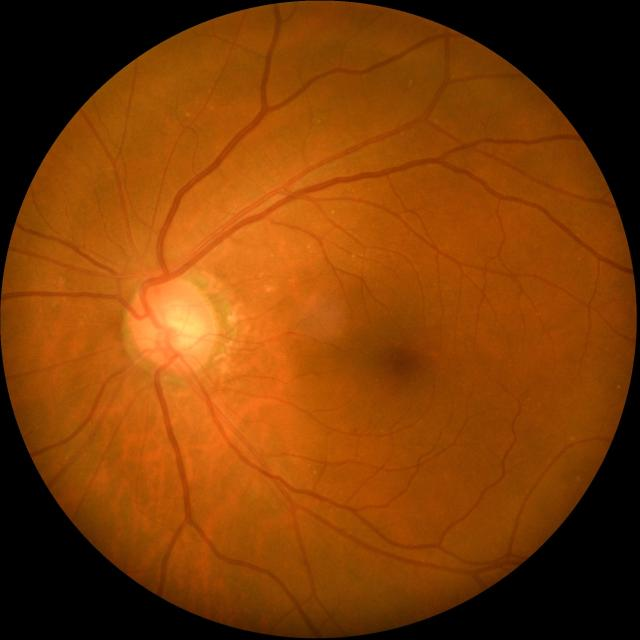OC: (151, 296, 203, 354)
OD: (125, 273, 216, 372)
